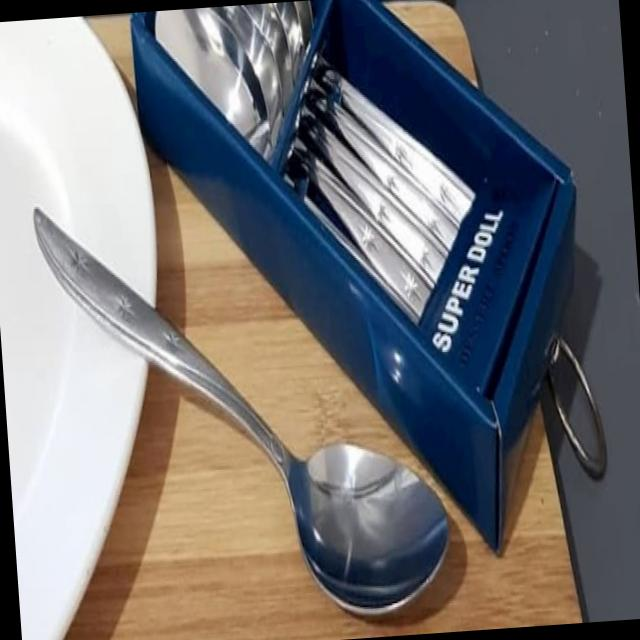spoon: (15, 186, 465, 625)
